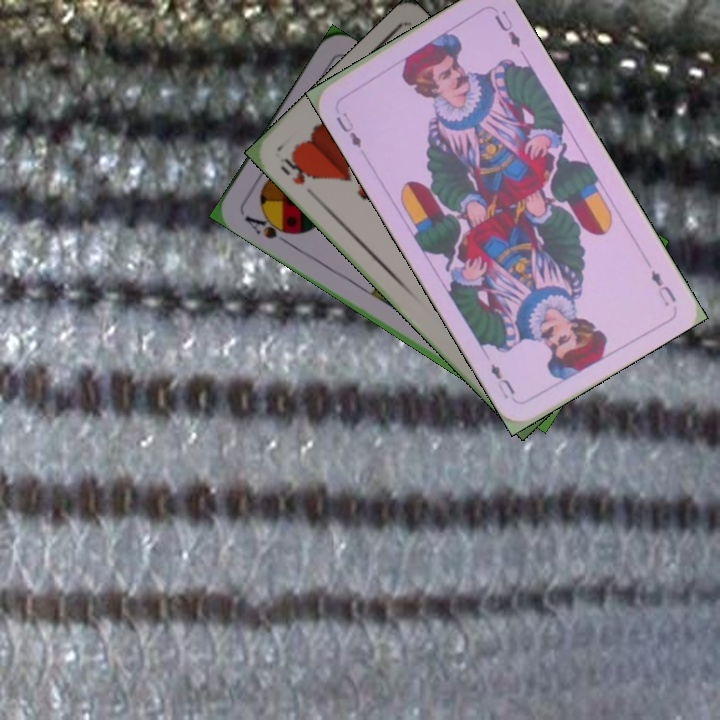EU: (646, 265, 679, 309), (331, 108, 364, 151)
HO: (275, 150, 320, 201)
SA: (241, 209, 297, 247)
